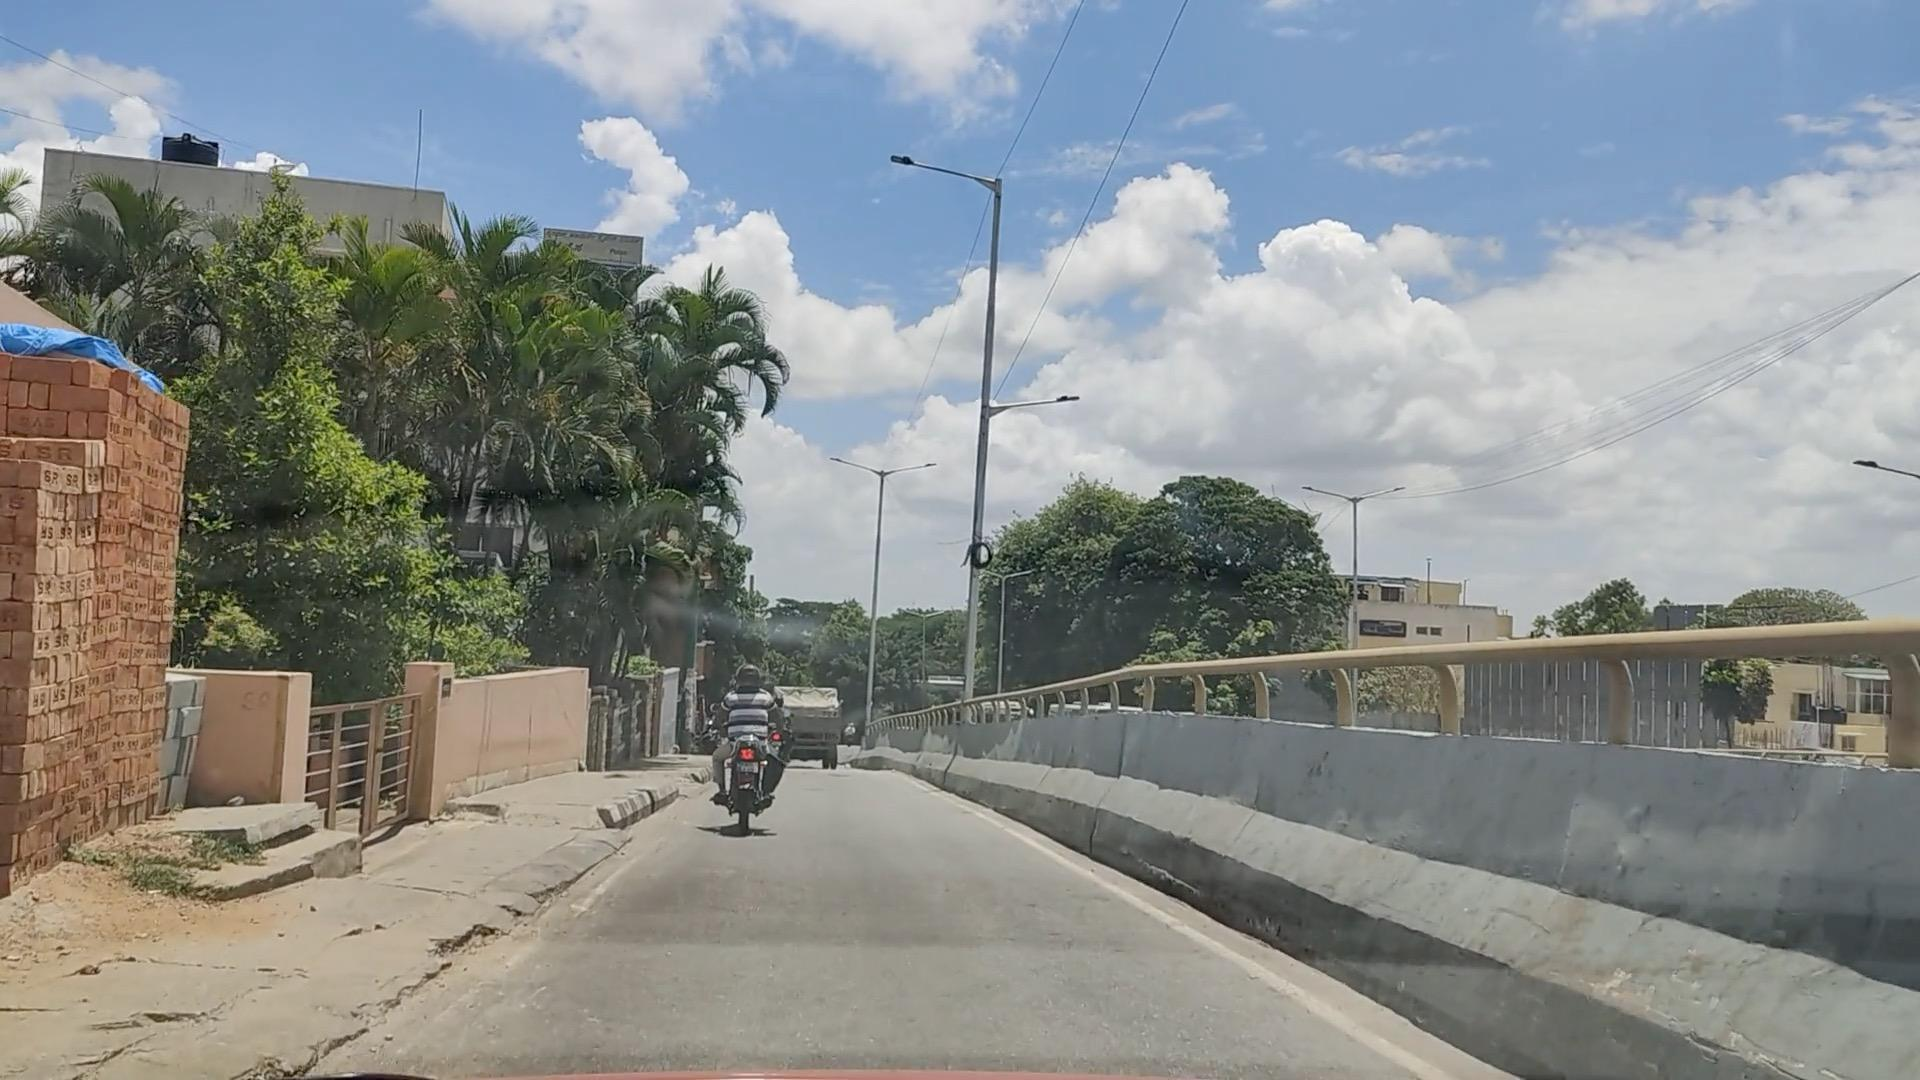LMV: (707, 660, 798, 810)
RoadDamages: (270, 900, 550, 1045)
